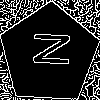N: (24, 29, 70, 68)
